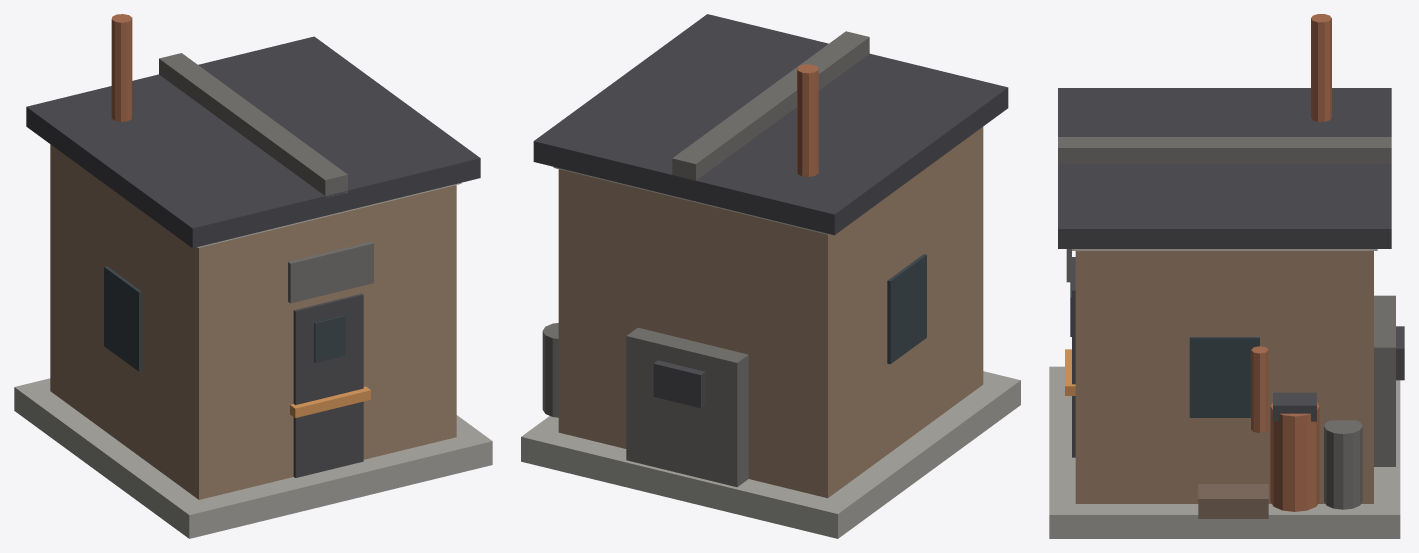
The model's file is env_pump_house.glb.
3 views of the same model, side by side, from view 1: azimuth 30°, elevation 25°; view 2: azimuth 150°, elevation 25°; view 3: azimuth 270°, elevation 25° (orthographic). The views are drawn at different scales.
Visible parts, largest first — view 1: pump_house, dressing_damaged; view 2: pump_house; view 3: pump_house, dressing_damaged.
Boxes of the visible parts, x1,y1,x2,y2 form: pump_house: (14, 14, 492, 538); dressing_damaged: (290, 386, 370, 417); pump_house: (521, 14, 1020, 538); pump_house: (1049, 14, 1404, 538); dressing_damaged: (1065, 346, 1268, 518).
Size of the model in its own units: 4.15 by 5.1 by 4.05.
